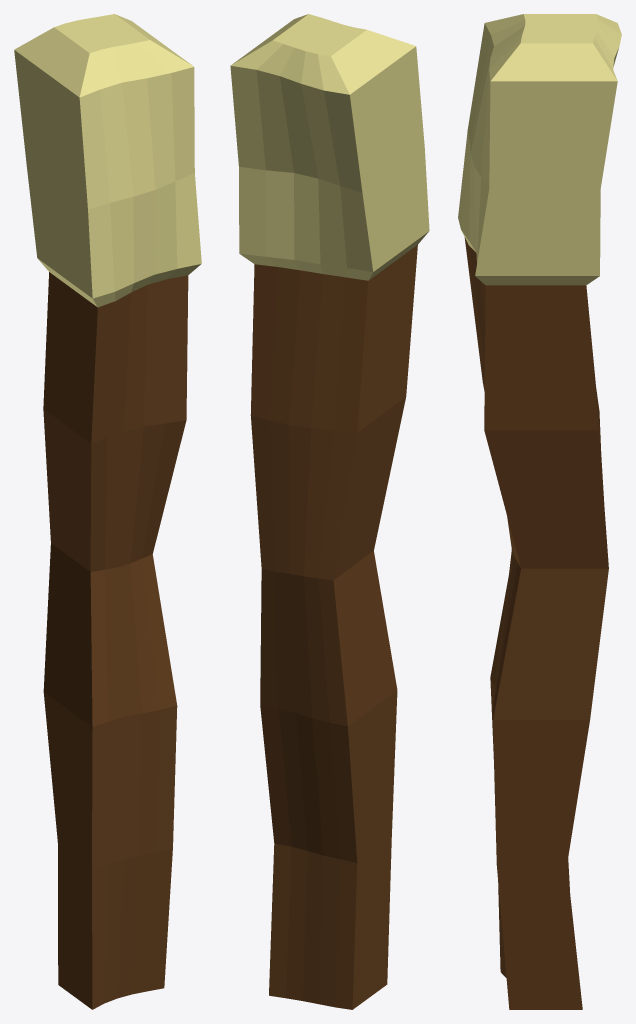
The model's file is Torch.fbx.
3 renders of one model, left to right at view 1: azimuth 30°, elevation 25°; view 2: azimuth 150°, elevation 25°; view 3: azimuth 270°, elevation 25°, orthographic.
Parts seen in each view (by area): view 1: Torch; view 2: Torch; view 3: Torch.
Part boxes in pixels (<box>): Torch: <box>14,14,201,1009</box>; Torch: <box>230,14,429,1009</box>; Torch: <box>458,14,621,1009</box>.
Size of the model in its own units: 11.28 by 86.8 by 13.4.
